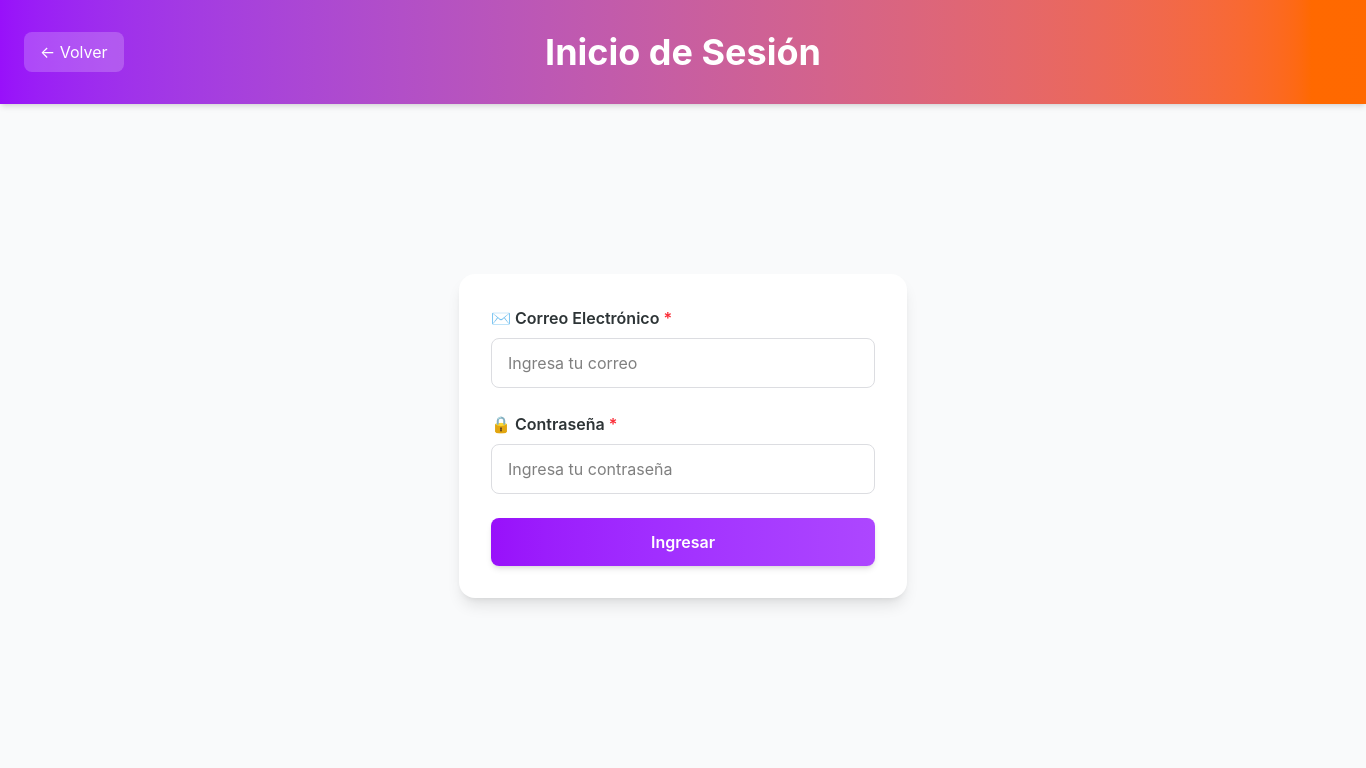
Test: LoginScreen Component › shows validation errors for weak passwords
Note: Test too short
Type "pass12" into the password field with placeholder "Ingresa tu contraseña". click: point(683, 469)
box: [491, 444, 875, 494]
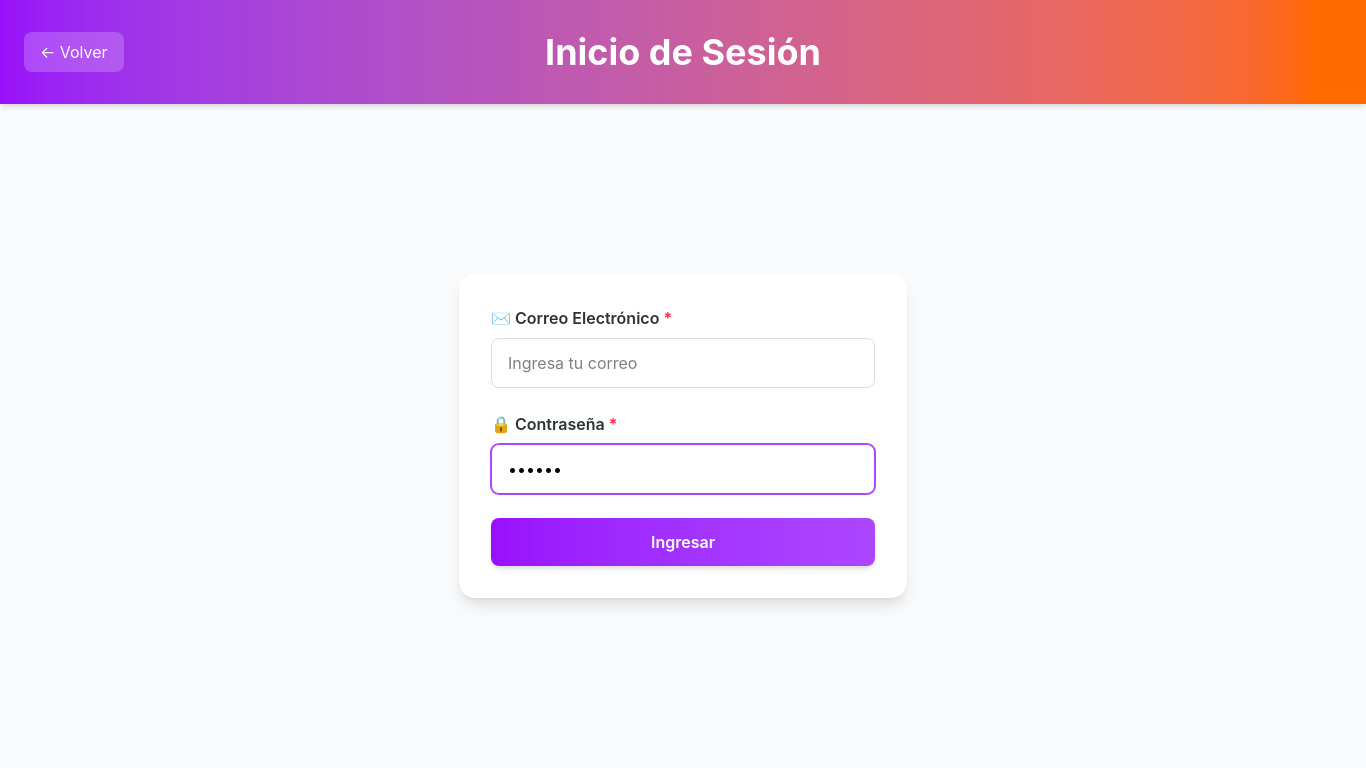
Submit the form with test id "login-form", box [491, 306, 875, 566]
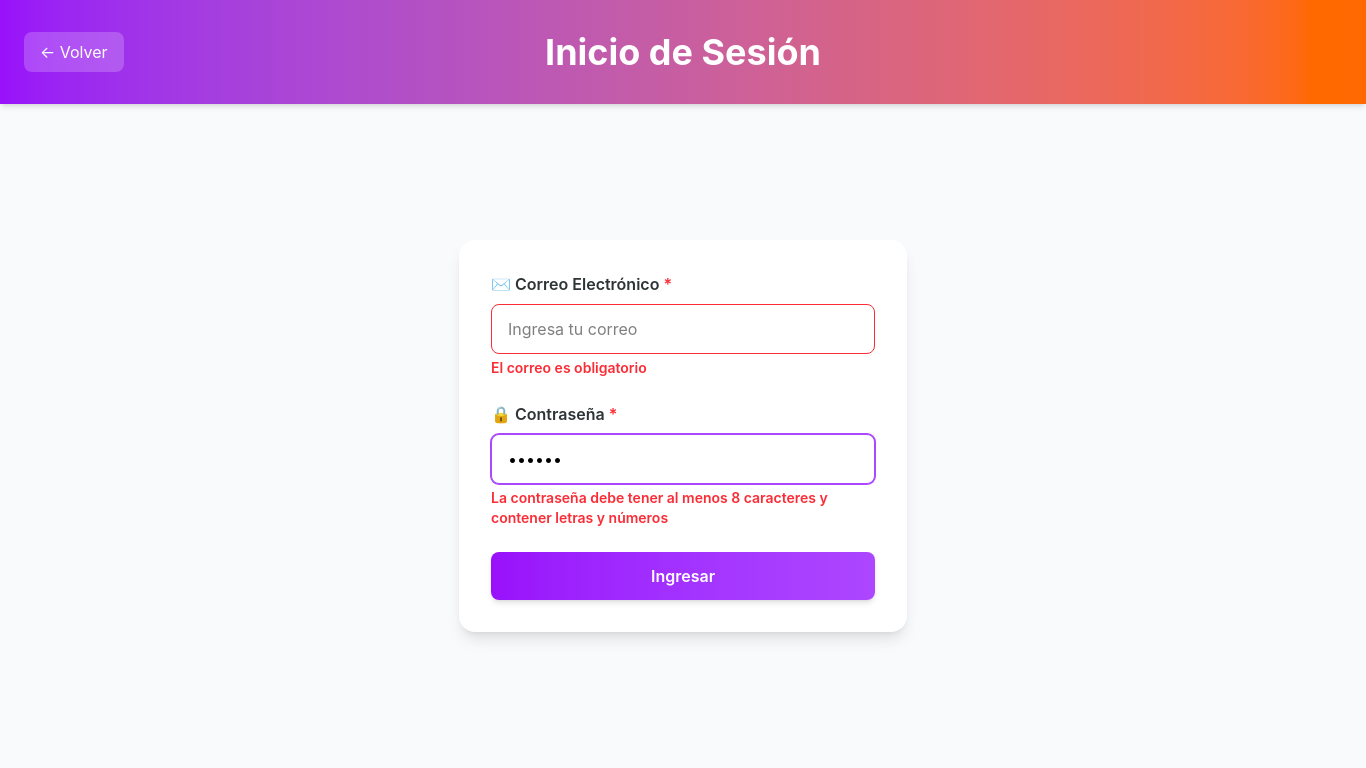
Expected: the text "La contraseña debe tener al menos 8 caracteres y contener letras y números" is shown, [491, 488, 875, 528]
